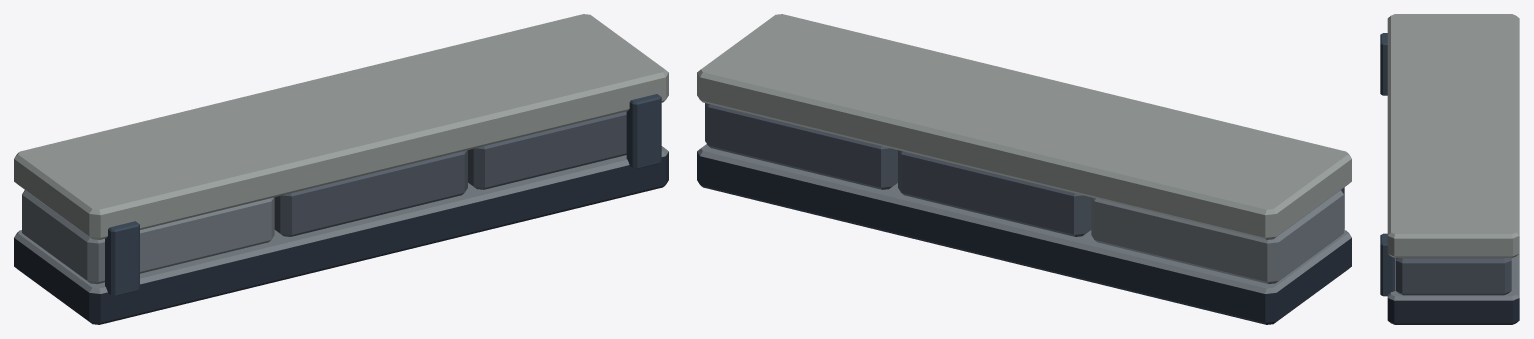
Rendered from wall-low.glb.
3 renders of one model, left to right at view 1: azimuth 30°, elevation 25°; view 2: azimuth 150°, elevation 25°; view 3: azimuth 270°, elevation 25°, orthographic. The views are drawn at different scales.
Visible parts, largest first — view 1: wall-low__body; view 2: wall-low__body; view 3: wall-low__body.
Part boxes in pixels (<box>): wall-low__body: <box>14,14,668,324</box>; wall-low__body: <box>697,14,1351,324</box>; wall-low__body: <box>1380,14,1519,324</box>.
Bounding box in the file's own units: 2 × 0.38 × 0.5275.
